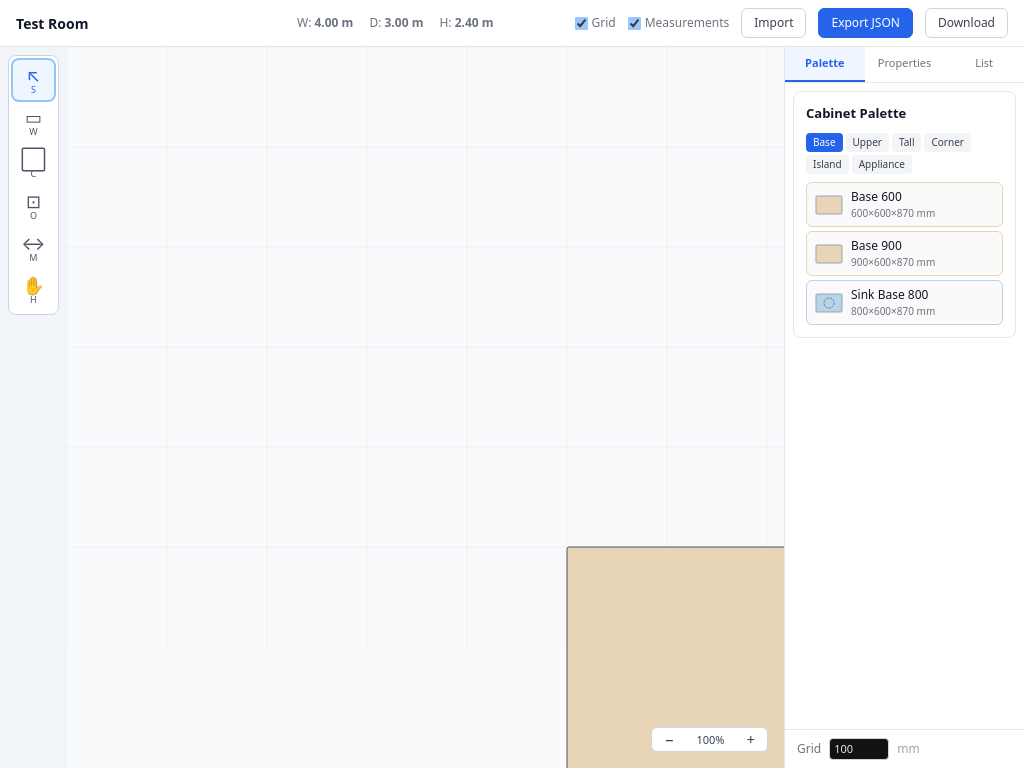
Test: FloorPlanEditor interactions › sidebar list tab shows placed cabinets
What coordinates should you click on to do the following:
click the button with test id "sidebar-tab-list"
I would click on:
 (984, 64)
Its box is 944,47 -> 1024,82.
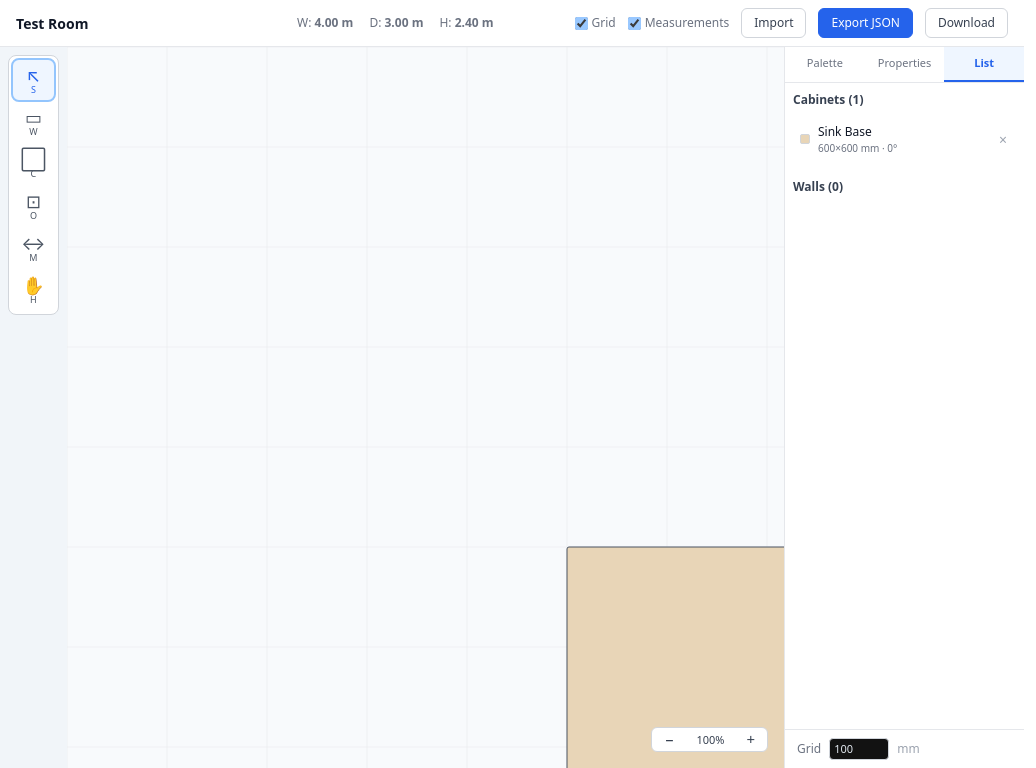
Now the element with test id "cabinet-list" is shown, box 793,90 -> 1016,196
